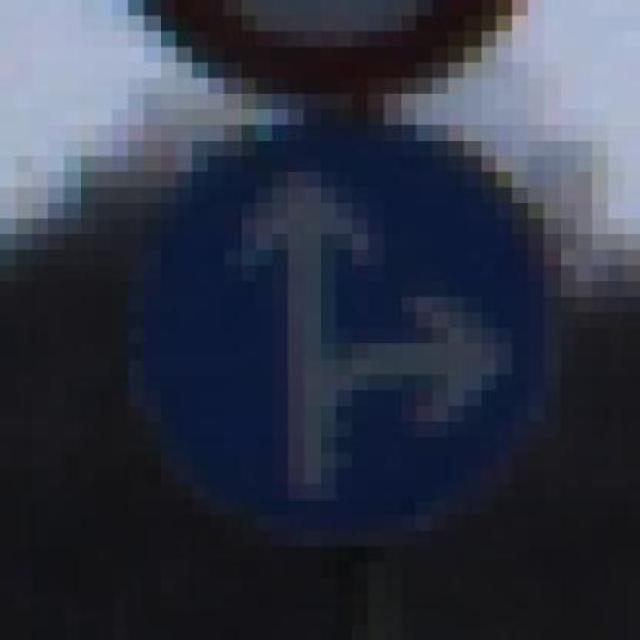Go Straight or Turn Right: (64, 109, 608, 546)
